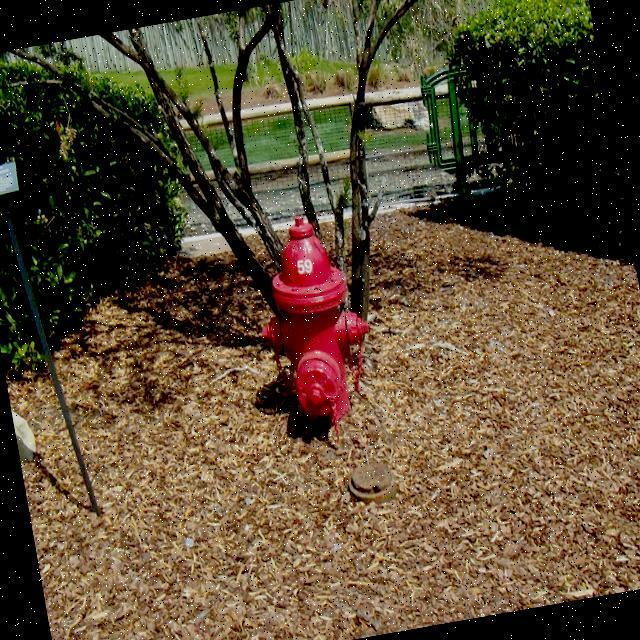fire_hydrant: (240, 206, 385, 436)
